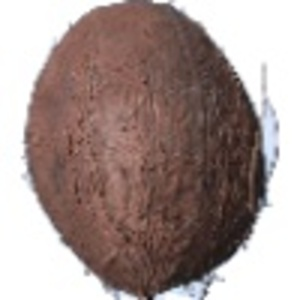coco: (25, 1, 280, 300)
